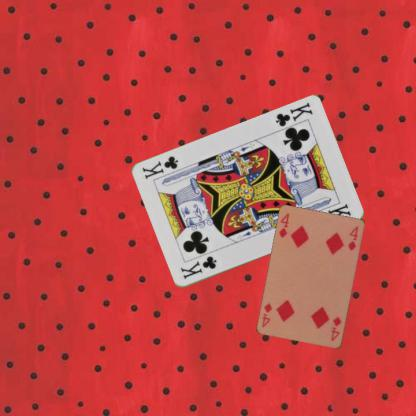4d: (328, 314, 343, 342), (276, 211, 291, 239)
Kc: (273, 100, 314, 128), (177, 254, 218, 281)
